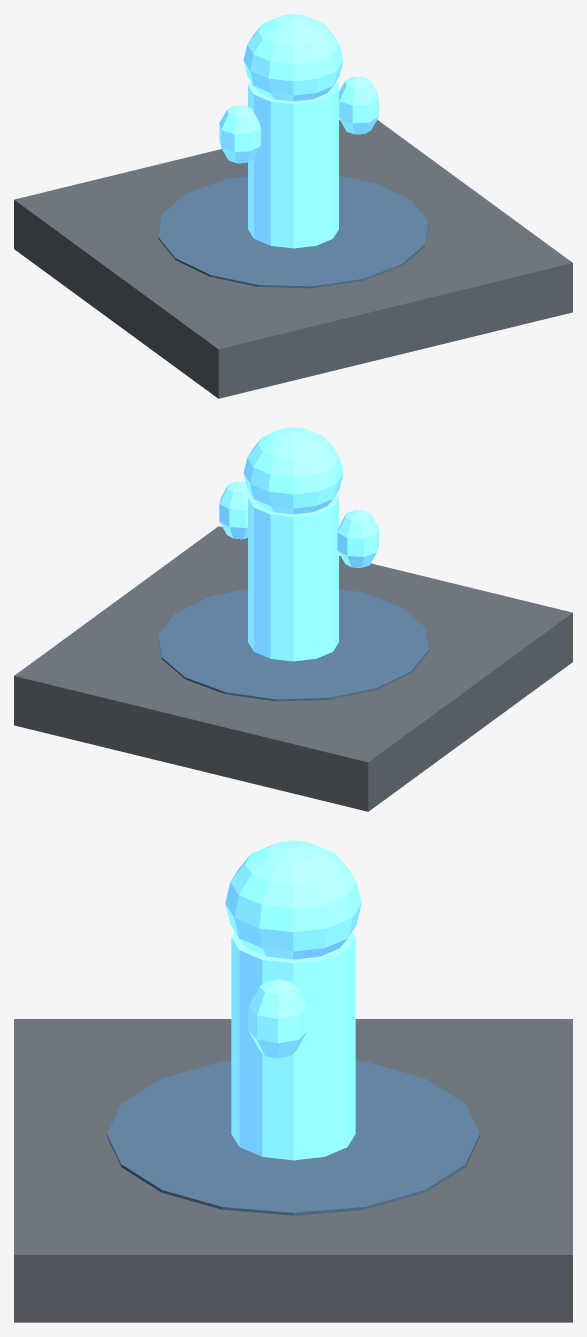
The model's file is elf_tide.glb.
3 views of the same model, one above another, from view 1: azimuth 30°, elevation 25°; view 2: azimuth 150°, elevation 25°; view 3: azimuth 270°, elevation 25° (orthographic). The views are drawn at different scales.
Visible parts, largest first — view 1: elf_tideMesh, BodyGlow; view 2: elf_tideMesh, BodyGlow; view 3: elf_tideMesh, BodyGlow.
Part boxes in pixels (box(x1,y1,x2,y2)): elf_tideMesh: box(14, 120, 572, 398); BodyGlow: box(219, 14, 378, 248); elf_tideMesh: box(14, 526, 572, 811); BodyGlow: box(219, 427, 378, 661); elf_tideMesh: box(14, 1019, 572, 1322); BodyGlow: box(225, 840, 361, 1160).
Bounding box in the file's own units: 1.8 × 1.27 × 1.8.
